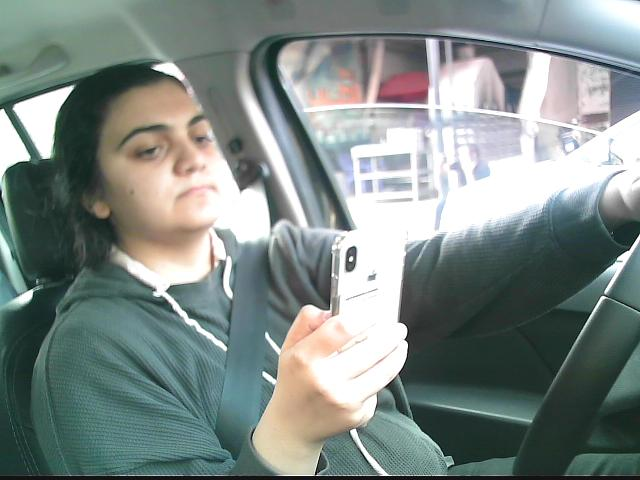PhoneUse: (326, 219, 412, 377)
